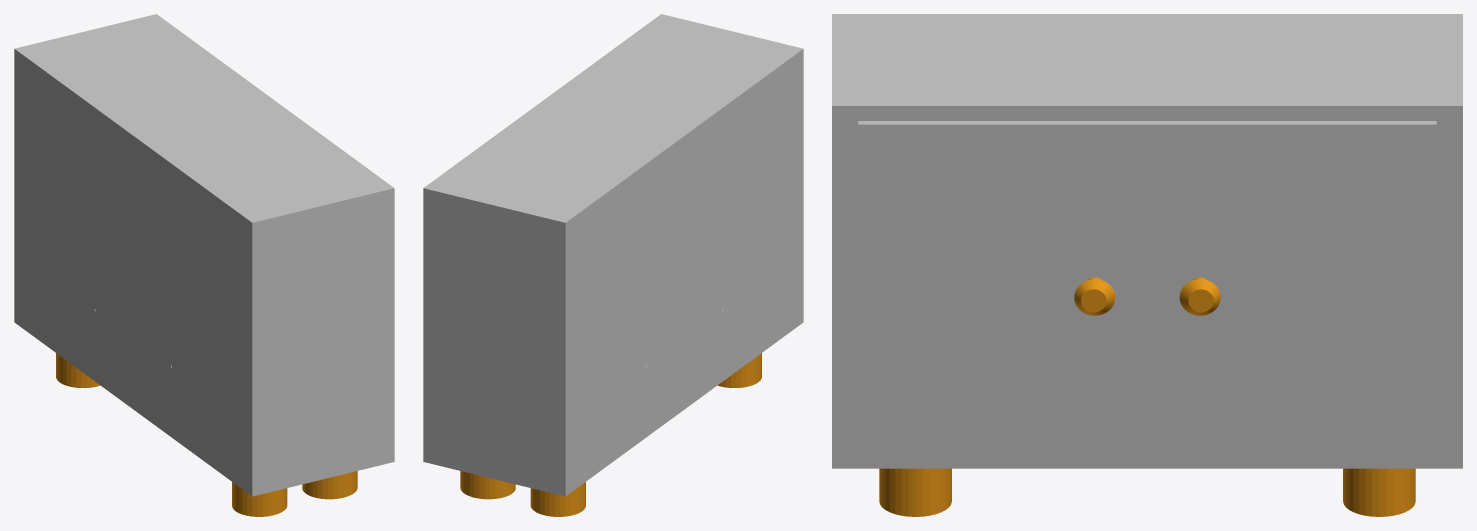
Rendered from Muebleconespejo1.fbx.
3 views of the same model, side by side, from view 1: azimuth 30°, elevation 25°; view 2: azimuth 150°, elevation 25°; view 3: azimuth 270°, elevation 25° (orthographic). The views are drawn at different scales.
Visible parts, largest first — view 1: Cube; view 2: Cube; view 3: Cube.
Boxes of the visible parts, x1,y1,x2,y2 form: Cube: [14, 14, 394, 516]; Cube: [423, 14, 803, 516]; Cube: [832, 14, 1462, 516].
Size of the model in its own units: 239 by 423 by 580.
2 materials, 2 textured.
